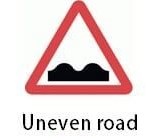Traffic signal: (24, 1, 134, 96)
